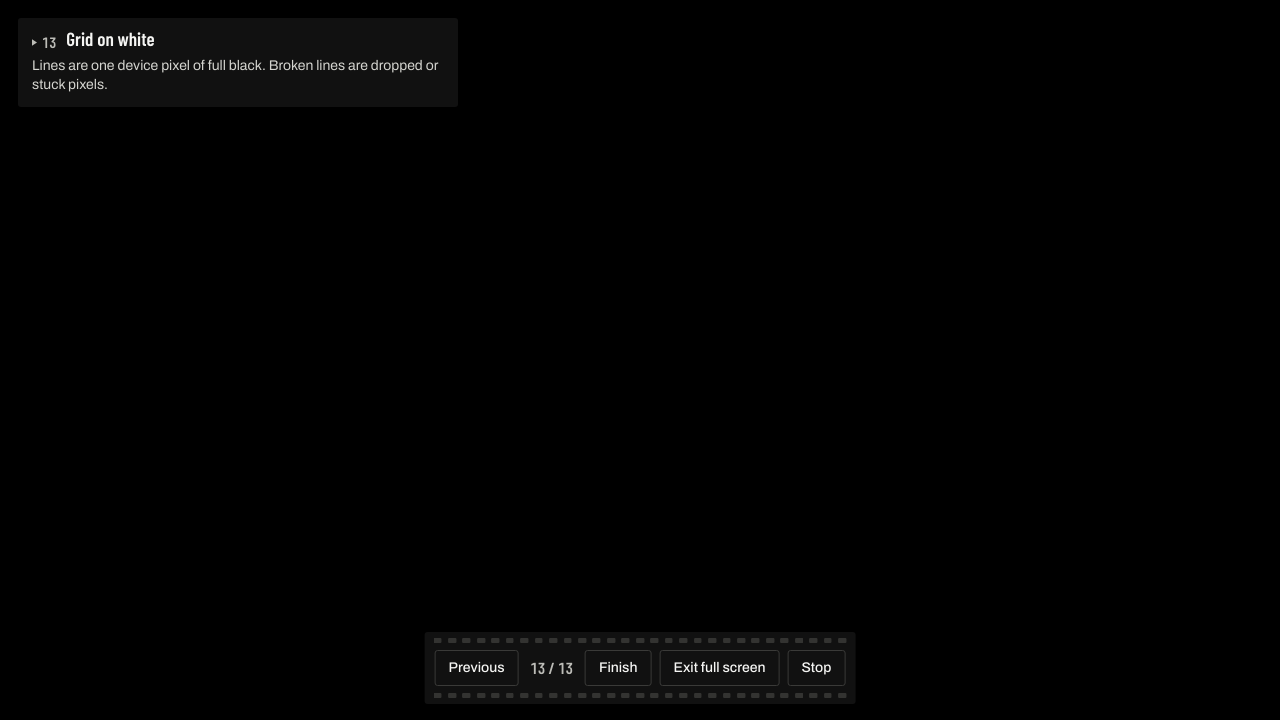
Test case: summary › copies a plain-text summary
This screenshot has width=1280, height=720.
Earlier steps of the test are not shown.
Press ArrowRight
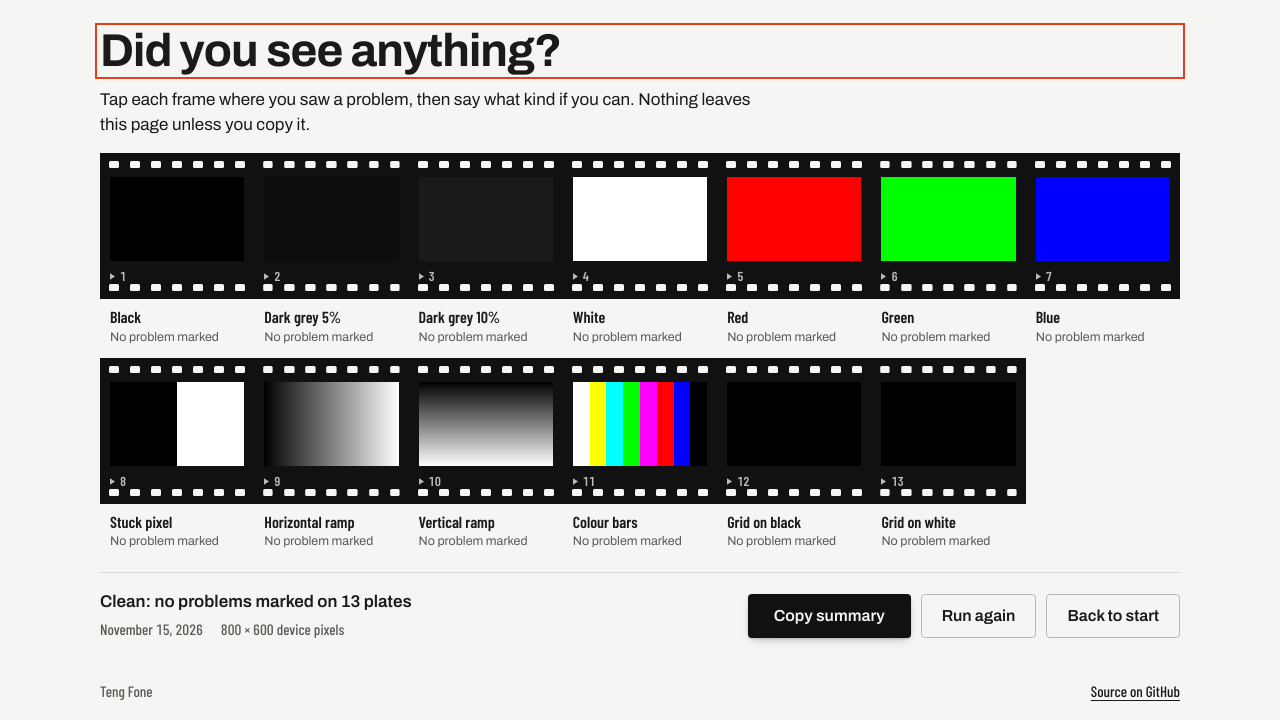
Click the button "2" at {"x": 331, "y": 226}, box [254,153,409,299]
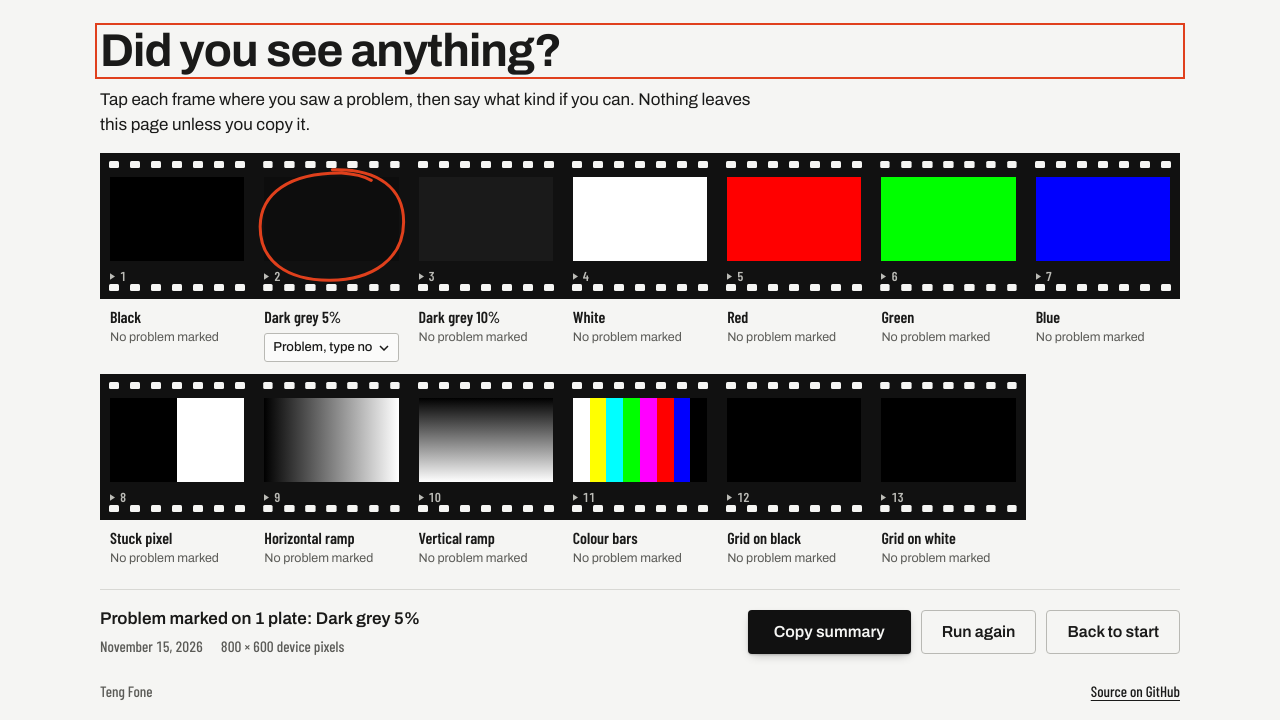
Click the button "Copy summary" at {"x": 829, "y": 632}, box [748,610,911,654]
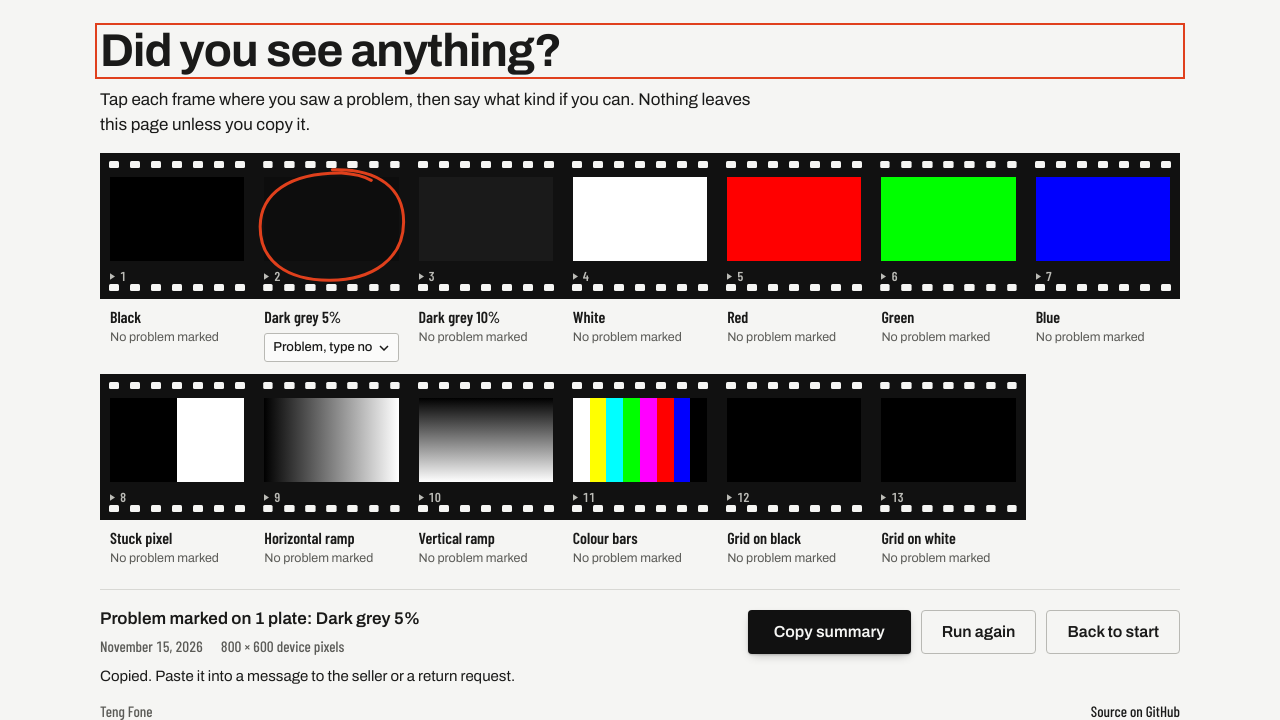
Expected: the message shows "Copied", [100,668,515,684]
